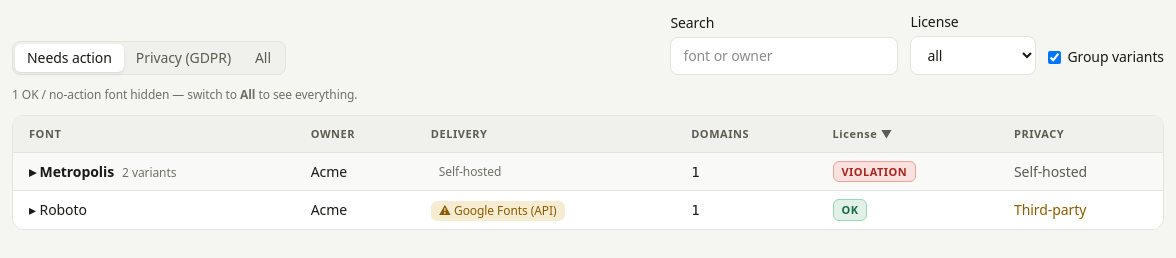
it: FindingsTable › defaults to 'Needs action': hides OK/self-hosted, keeps privacy-flagged OK
The image size is (1176, 258).
Expected: the button "▸ Roboto" is shown, [29,200,87,220]
Expected: the text "Ignored" is not shown
# Switching to "All" reveals it.
Click the button "All" at (263, 58), box [243,44,283,72]
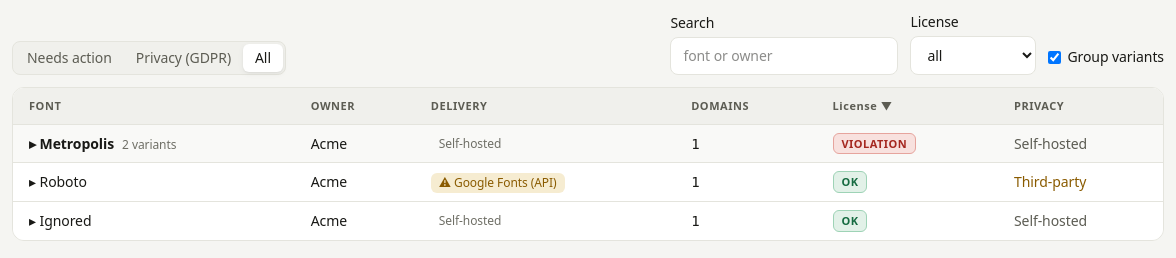
Now the button "▸ Ignored" is shown, box [29,211,92,231]
